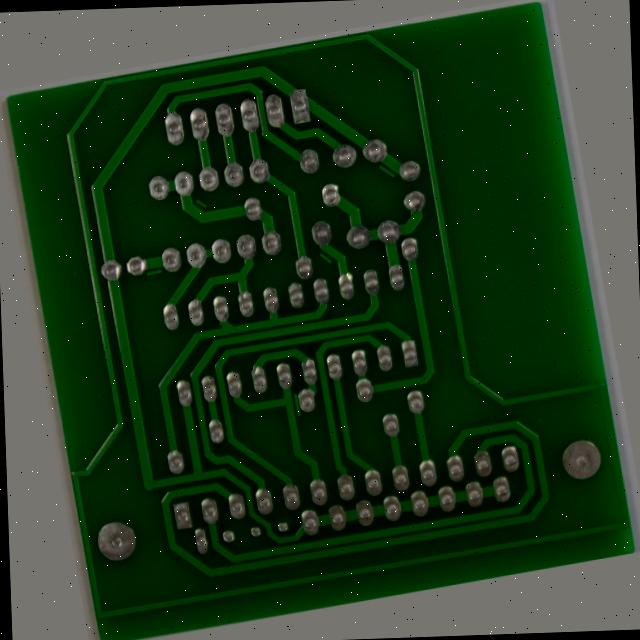spurious_copper: (269, 391, 294, 427), (401, 149, 429, 176), (123, 230, 154, 248), (323, 238, 344, 262), (193, 159, 211, 179)
